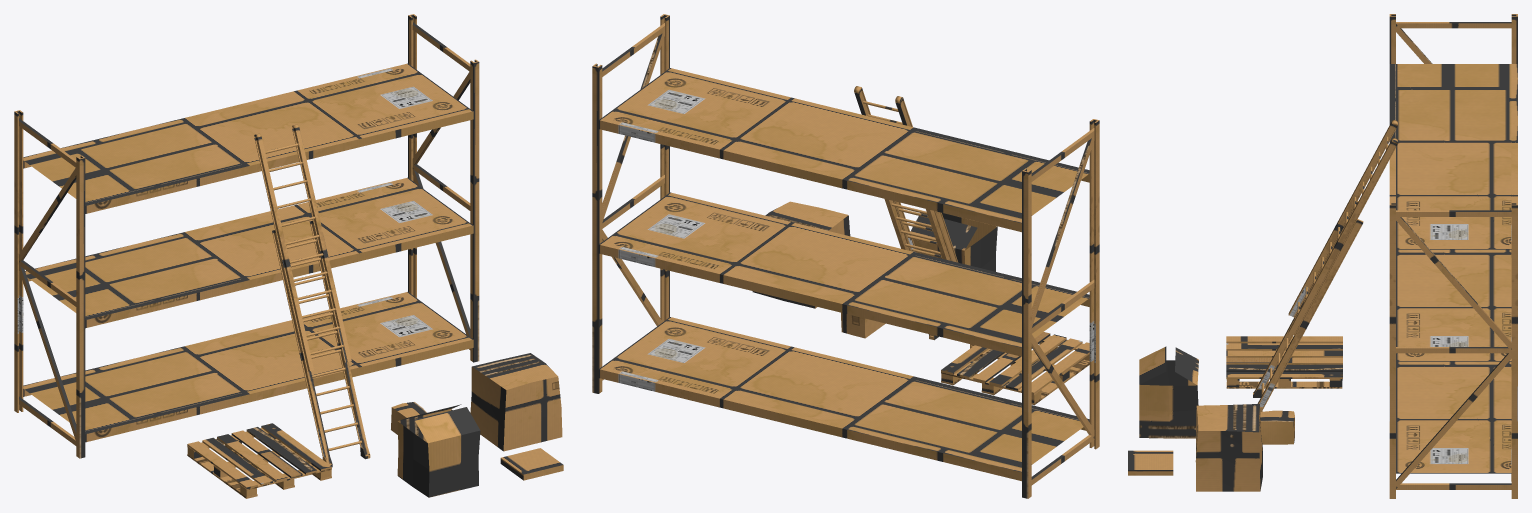
The model's file is rak.obj.
The picture shows the model from 3 angles, left to right: view 1: azimuth 30°, elevation 25°; view 2: azimuth 150°, elevation 25°; view 3: azimuth 270°, elevation 25°; orthographic projection. The views are drawn at different scales.
Visible parts, largest first — view 1: Shelf_WarehouseShelfMaterial_0, Ladder_WarehouseShelfMaterial_0, Box1_WarehouseShelfMaterial_0, Box4_WarehouseShelfMaterial_0, Pallet_WarehouseShelfMaterial_0, Box3_WarehouseShelfMaterial_0; view 2: Shelf_WarehouseShelfMaterial_0, Pallet_WarehouseShelfMaterial_0, Ladder_WarehouseShelfMaterial_0, Box4_WarehouseShelfMaterial_0, Box1_WarehouseShelfMaterial_0, Box2_WarehouseShelfMaterial_0; view 3: Shelf_WarehouseShelfMaterial_0, Ladder_WarehouseShelfMaterial_0, Box1_WarehouseShelfMaterial_0, Pallet_WarehouseShelfMaterial_0, Box4_WarehouseShelfMaterial_0, Box3_WarehouseShelfMaterial_0, Box2_WarehouseShelfMaterial_0.
Part boxes in pixels (x1,y1,x2,y2): Shelf_WarehouseShelfMaterial_0: [14, 14, 479, 458]; Ladder_WarehouseShelfMaterial_0: [254, 124, 370, 467]; Box1_WarehouseShelfMaterial_0: [470, 353, 562, 451]; Box4_WarehouseShelfMaterial_0: [397, 404, 480, 497]; Pallet_WarehouseShelfMaterial_0: [187, 423, 331, 498]; Box3_WarehouseShelfMaterial_0: [500, 448, 563, 480]; Shelf_WarehouseShelfMaterial_0: [592, 14, 1099, 498]; Pallet_WarehouseShelfMaterial_0: [941, 332, 1089, 405]; Ladder_WarehouseShelfMaterial_0: [854, 86, 974, 348]; Box4_WarehouseShelfMaterial_0: [910, 213, 997, 271]; Box1_WarehouseShelfMaterial_0: [752, 201, 850, 308]; Box2_WarehouseShelfMaterial_0: [841, 312, 885, 338]; Shelf_WarehouseShelfMaterial_0: [1389, 14, 1517, 498]; Ladder_WarehouseShelfMaterial_0: [1253, 120, 1397, 411]; Box1_WarehouseShelfMaterial_0: [1195, 404, 1262, 491]; Pallet_WarehouseShelfMaterial_0: [1226, 336, 1342, 388]; Box4_WarehouseShelfMaterial_0: [1139, 346, 1198, 438]; Box3_WarehouseShelfMaterial_0: [1128, 450, 1173, 475]; Box2_WarehouseShelfMaterial_0: [1260, 410, 1294, 444].
Size of the model in its own units: 5.08 by 3.67 by 4.38.
